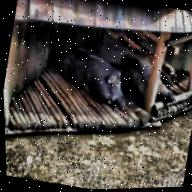boar: (42, 39, 151, 127), (110, 48, 182, 114)
